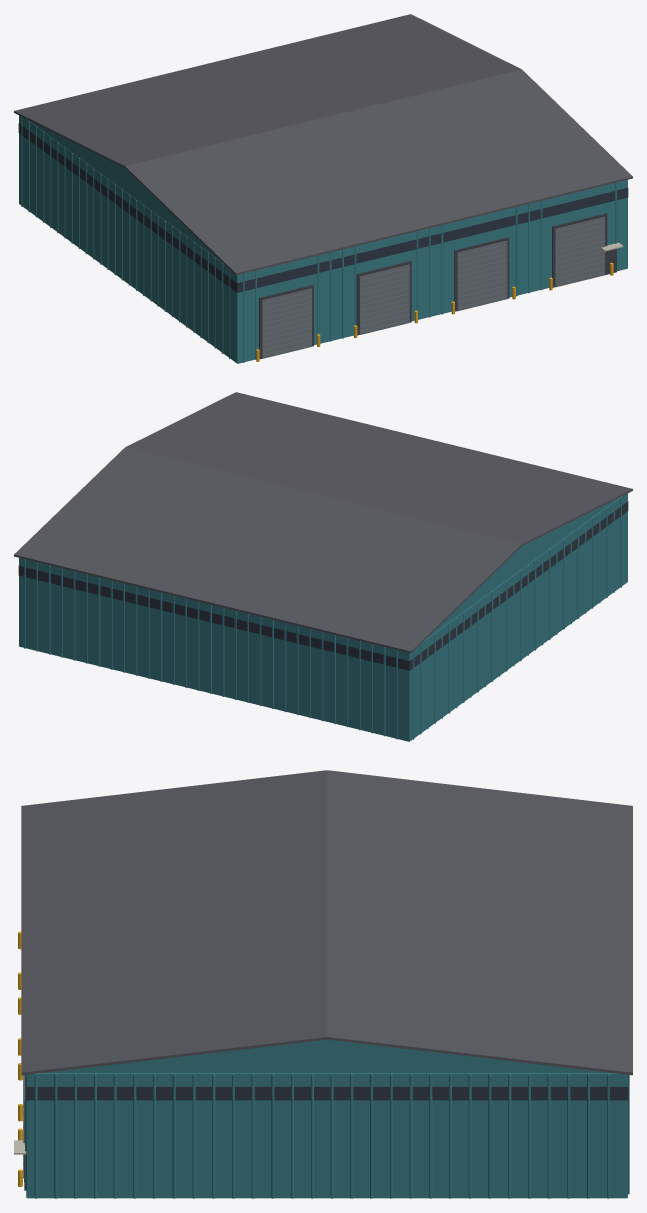
File: WarehouseSmall.fbx
The picture shows the model from 3 angles, top to bottom: view 1: azimuth 30°, elevation 25°; view 2: azimuth 150°, elevation 25°; view 3: azimuth 270°, elevation 25°; orthographic projection. The views are drawn at different scales.
Parts seen in each view (by area): view 1: WarehouseSmall_Roof, WarehouseSmall_Body, WarehouseSmall_RollDoor, WarehouseSmall_Windows, WarehouseSmall_Frame; view 2: WarehouseSmall_Roof, WarehouseSmall_Body, WarehouseSmall_Windows; view 3: WarehouseSmall_Roof, WarehouseSmall_Body, WarehouseSmall_Windows, WarehouseSmall_Bollards.
Boxes of the visible parts, left/top/right/bottom form: WarehouseSmall_Roof: left=14, top=14, right=632, bottom=275; WarehouseSmall_Body: left=19, top=115, right=627, bottom=363; WarehouseSmall_RollDoor: left=262, top=217, right=605, bottom=358; WarehouseSmall_Windows: left=18, top=123, right=628, bottom=292; WarehouseSmall_Frame: left=259, top=213, right=616, bottom=359; WarehouseSmall_Roof: left=14, top=392, right=632, bottom=653; WarehouseSmall_Body: left=19, top=493, right=627, bottom=741; WarehouseSmall_Windows: left=18, top=501, right=628, bottom=670; WarehouseSmall_Roof: left=21, top=770, right=632, bottom=1075; WarehouseSmall_Body: left=25, top=1039, right=629, bottom=1198; WarehouseSmall_Windows: left=26, top=1079, right=628, bottom=1100; WarehouseSmall_Bollards: left=18, top=931, right=22, bottom=1186.
Size of the model in its own units: 128 by 36.6 by 126.
